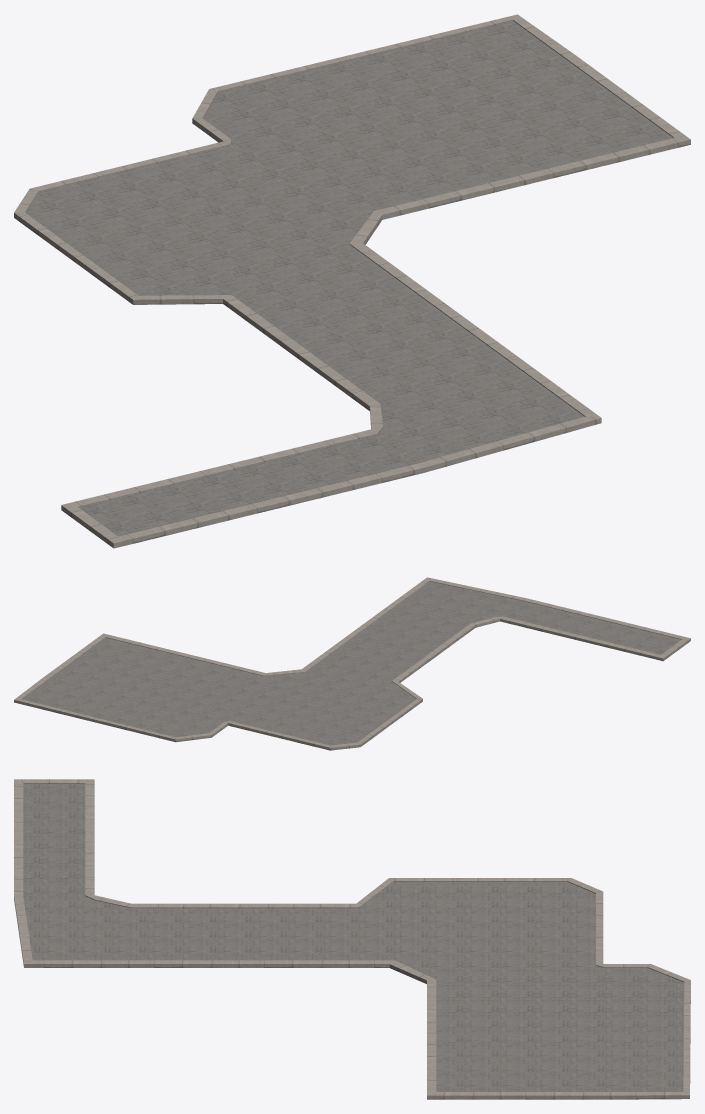
The model's file is TownGroundTile_K.fbx.
3 views of the same model, one above another, from view 1: azimuth 30°, elevation 25°; view 2: azimuth 150°, elevation 25°; view 3: azimuth 270°, elevation 25° (orthographic). The views are drawn at different scales.
Parts seen in each view (by area): view 1: TownGroundTile_K; view 2: TownGroundTile_K; view 3: TownGroundTile_K.
Part boxes in pixels (x1=…): TownGroundTile_K: x1=14, y1=14, x2=690, y2=548; TownGroundTile_K: x1=14, y1=577, x2=690, y2=750; TownGroundTile_K: x1=14, y1=779, x2=690, y2=1099.
Bounding box in the file's own units: 8150 × 47.09 × 7366.
2 materials, 2 textured.
